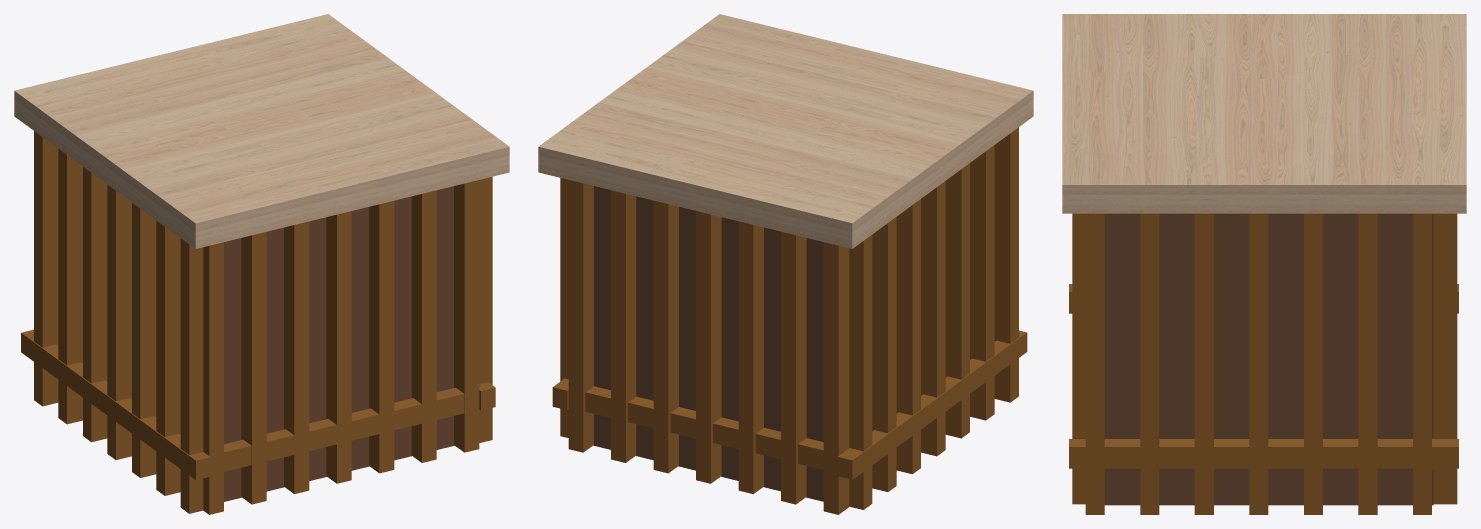
File: wood counter.fbx
The picture shows the model from 3 angles, left to right: view 1: azimuth 30°, elevation 25°; view 2: azimuth 150°, elevation 25°; view 3: azimuth 270°, elevation 25°; orthographic projection. The views are drawn at different scales.
Visible parts, largest first — view 1: Cube.002, Cube.001, Cube; view 2: Cube.002, Cube.001, Cube; view 3: Cube.001, Cube.002, Cube.
Boxes of the visible parts, x1,y1,x2,y2 form: Cube.002: (21,131,495,514); Cube.001: (14,14,509,248); Cube: (224,186,454,501); Cube.002: (552,127,1027,514); Cube.001: (538,14,1033,248); Cube: (593,186,823,501); Cube.001: (1062,14,1466,213); Cube.002: (1069,213,1458,514); Cube: (1104,213,1433,505).
Size of the model in its own units: 239 by 218 by 239.
